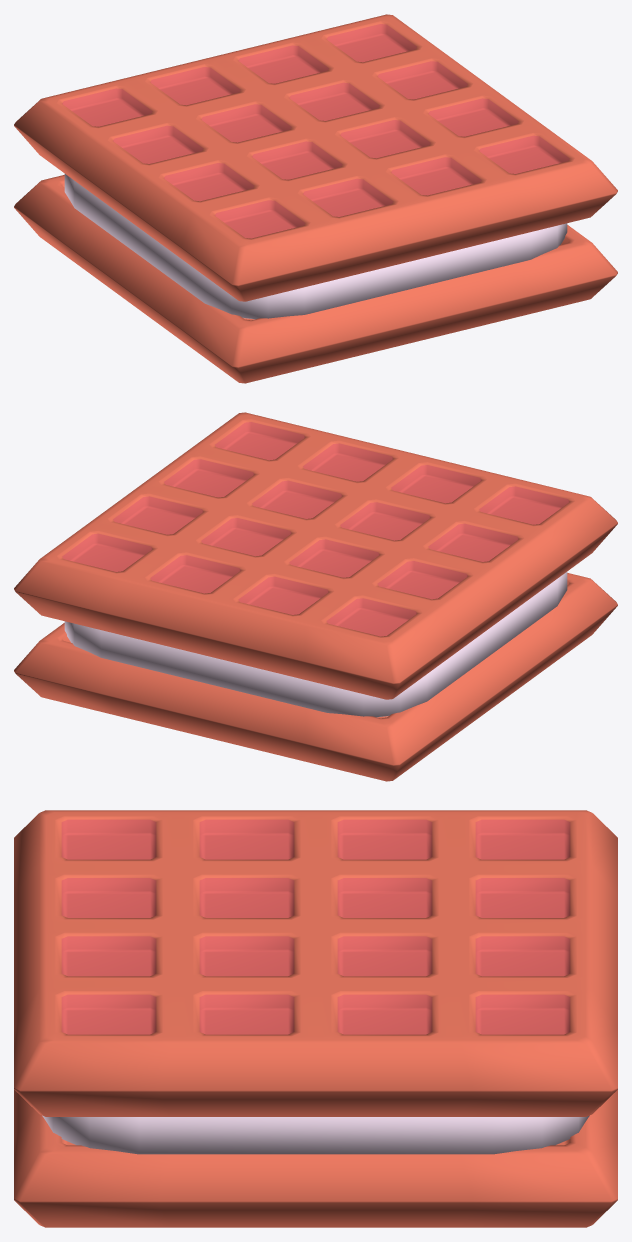
Rendered from WaffleStrawberry.fbx.
The picture shows the model from 3 angles, top to bottom: view 1: azimuth 30°, elevation 25°; view 2: azimuth 150°, elevation 25°; view 3: azimuth 270°, elevation 25°; orthographic projection. The views are drawn at different scales.
Visible parts, largest first — view 1: Cube.002; view 2: Cube.002; view 3: Cube.002.
Part boxes in pixels (x1,y1,x2,y2): Cube.002: (14, 14, 617, 383); Cube.002: (14, 412, 617, 781); Cube.002: (14, 810, 617, 1227).
Bounding box in the file's own units: 219 × 219 × 74.15.
